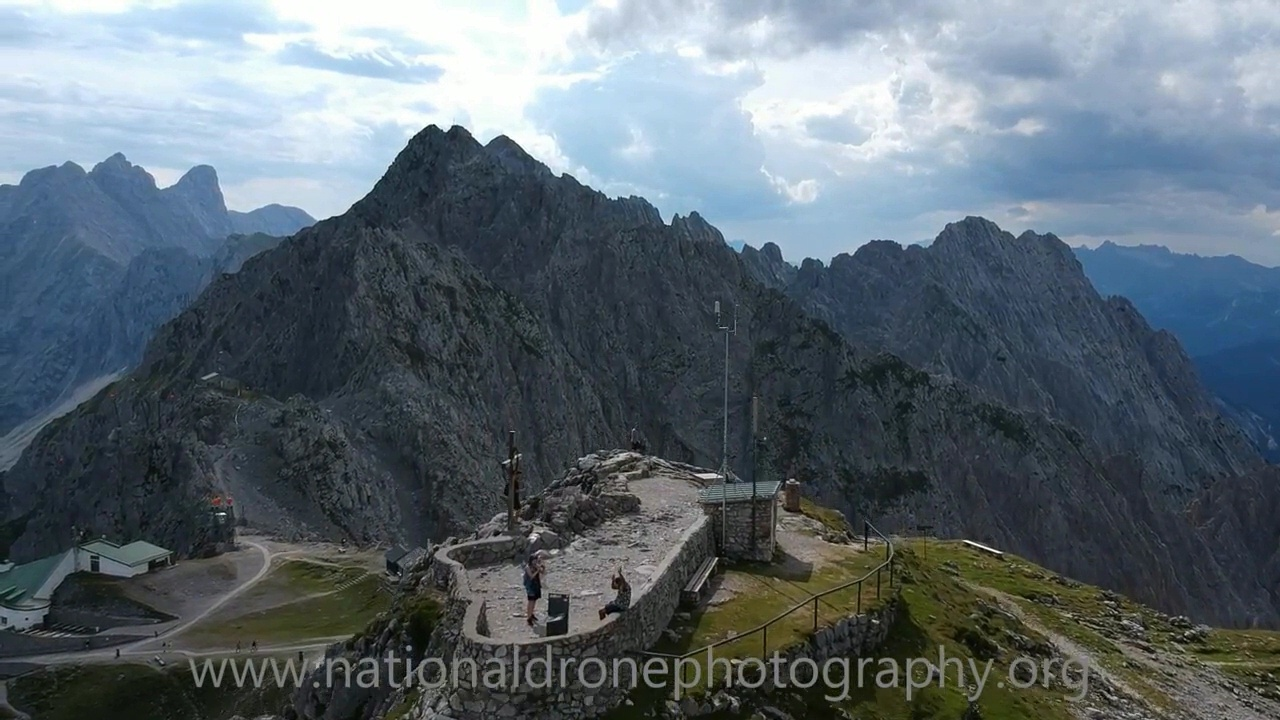insan: (595, 567, 633, 619), (524, 551, 544, 624)
